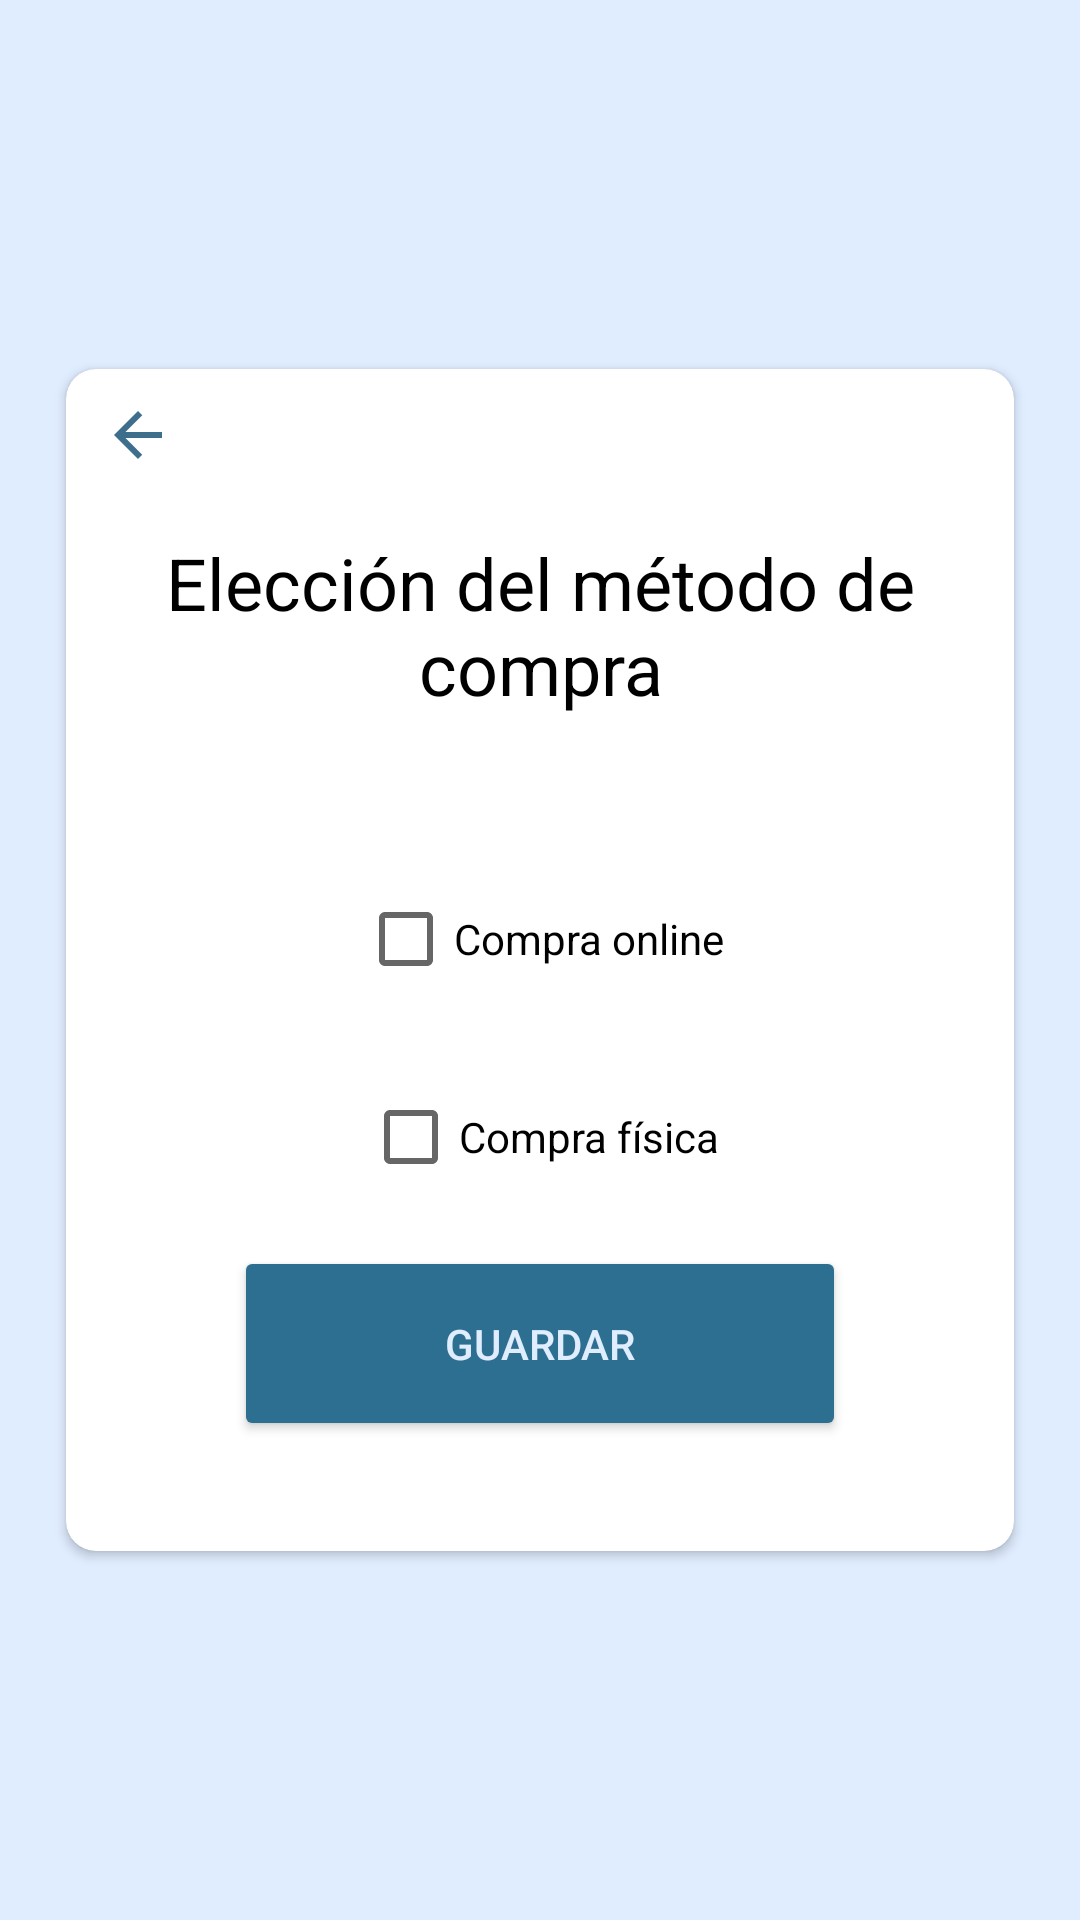

Icons on this 1080 x 1920 Android screen, each with its box as (x1, y1, x2, y2):
arrow back: (114, 411, 162, 459)
